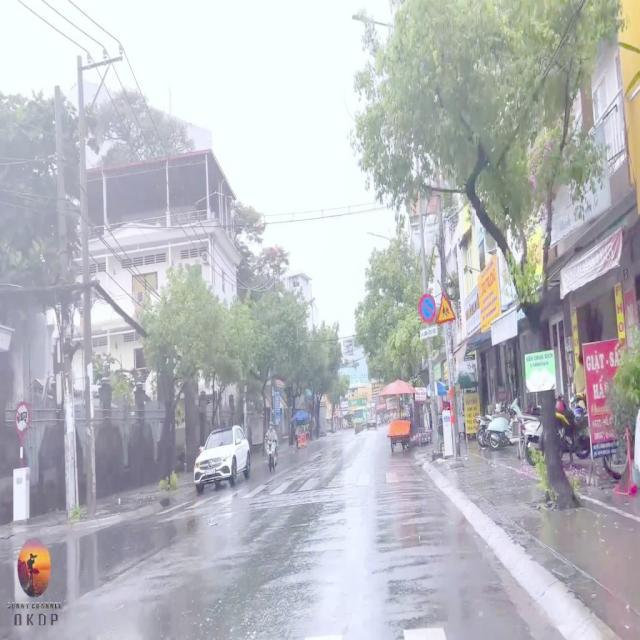106-cam-oto-tai: (16, 402, 32, 434)
131a-cam-do-xe: (417, 292, 437, 324)
225-chu-y-tre-em: (436, 293, 456, 325)
